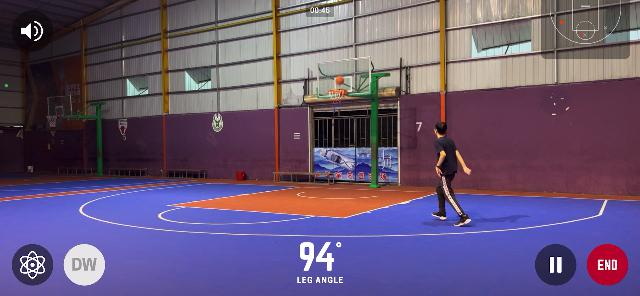ball: (334, 75, 344, 85)
basket: (328, 88, 346, 105)
